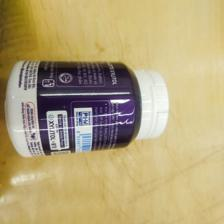Xylitol_BTS: (2, 56, 171, 159)
